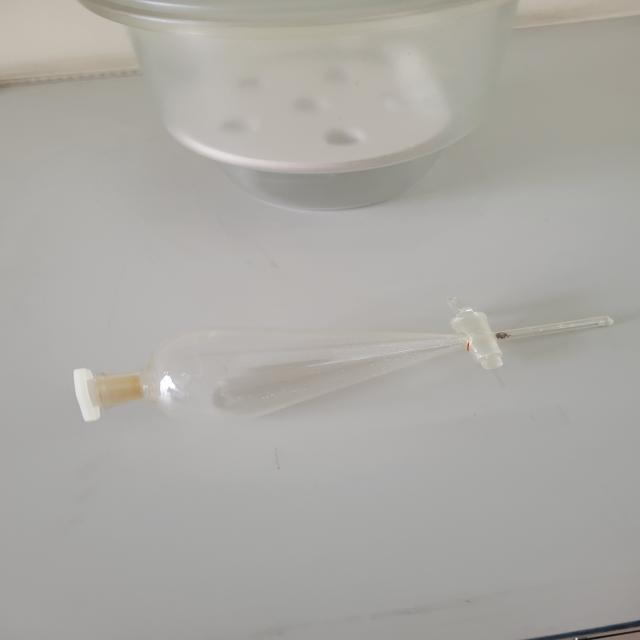Separating_Funnel: (58, 278, 632, 468)
